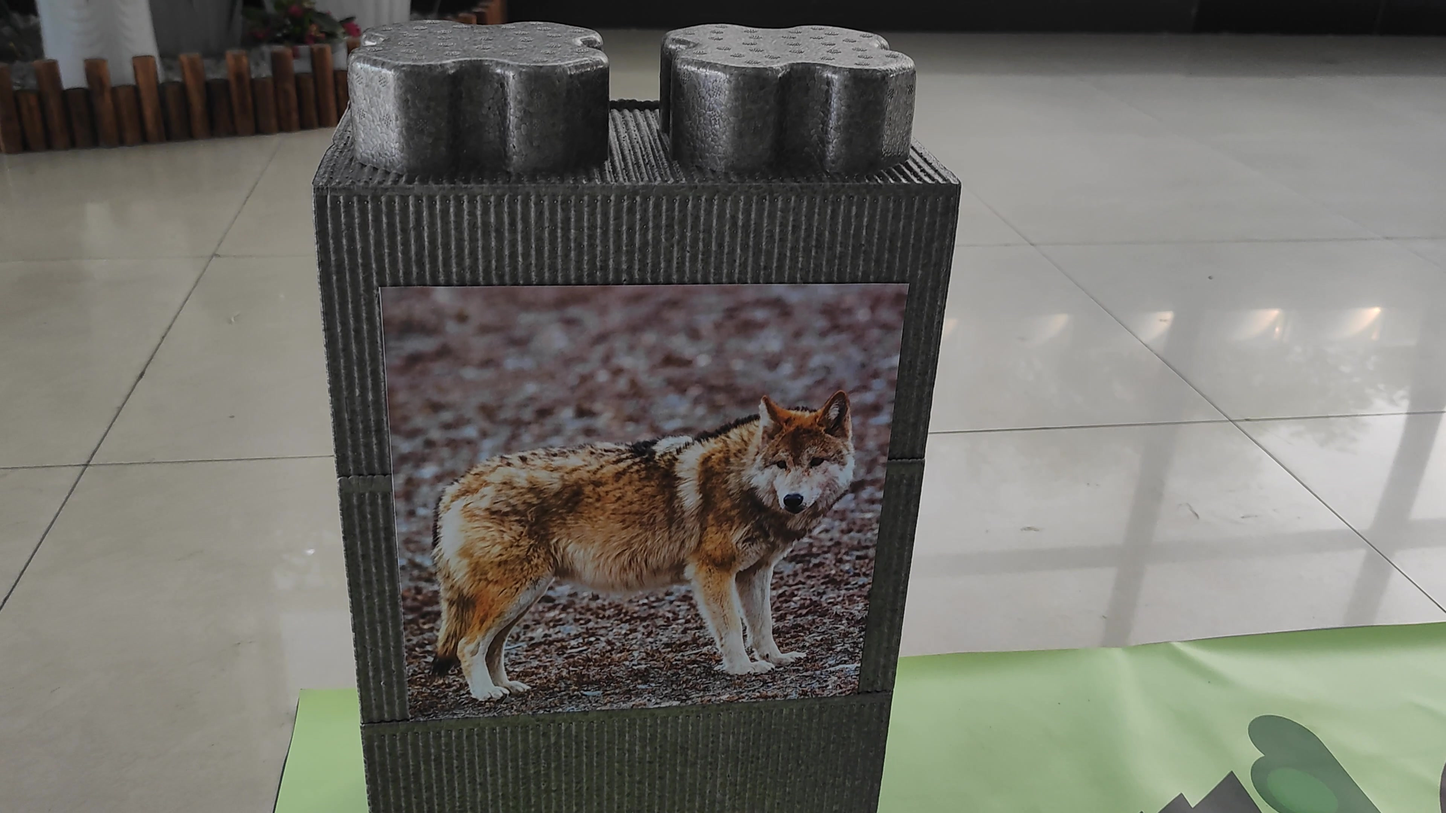wolf: (380, 285, 863, 708)
